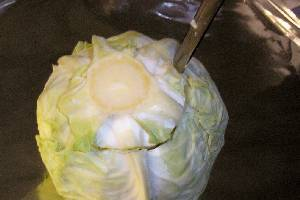cabbage: (34, 29, 228, 199)
